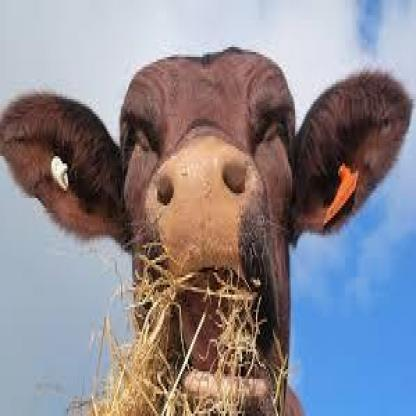cow: (0, 49, 412, 416)
